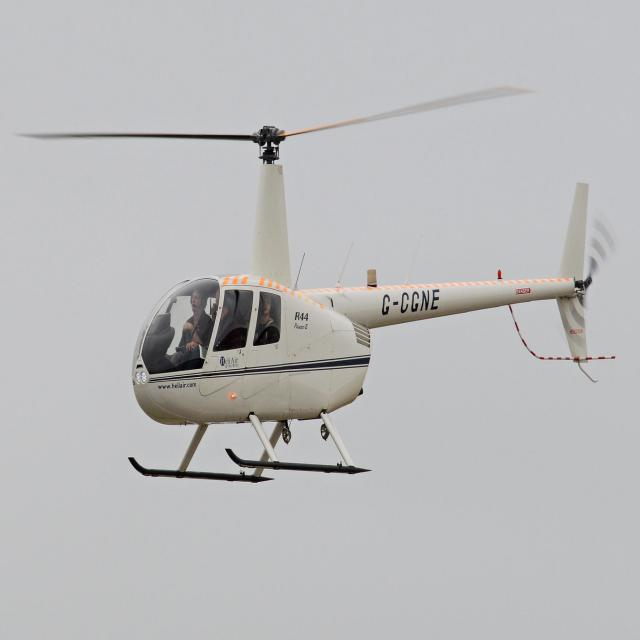helicopter: (26, 81, 603, 486)
